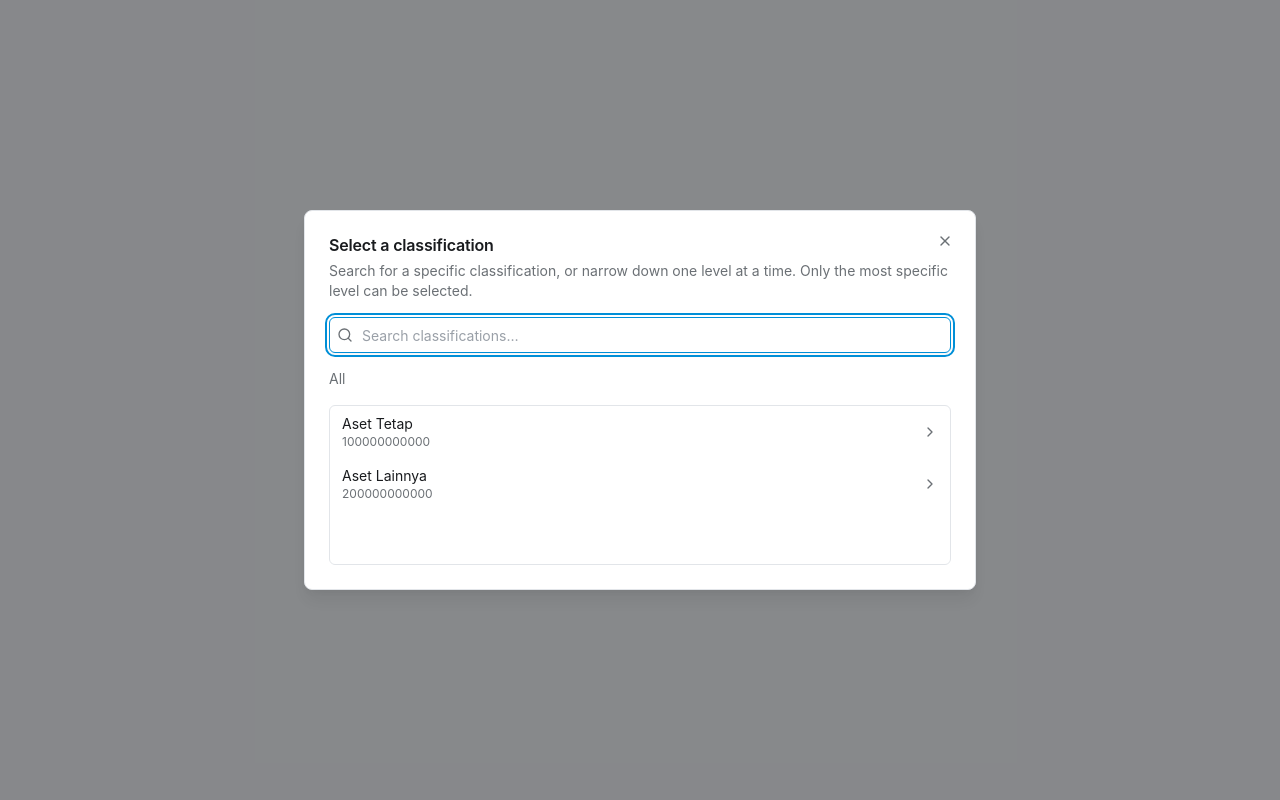
Test case: ClassificationPicker — leaf search (§4.5) › switches to leaf search once a term is typed
Check: the text "Aset Tetap" is shown, box [342,414,413,434]
Step 1. Type "aspal" into the field labelled "Search classifications…" → (640, 335), box [329,317,951,353]
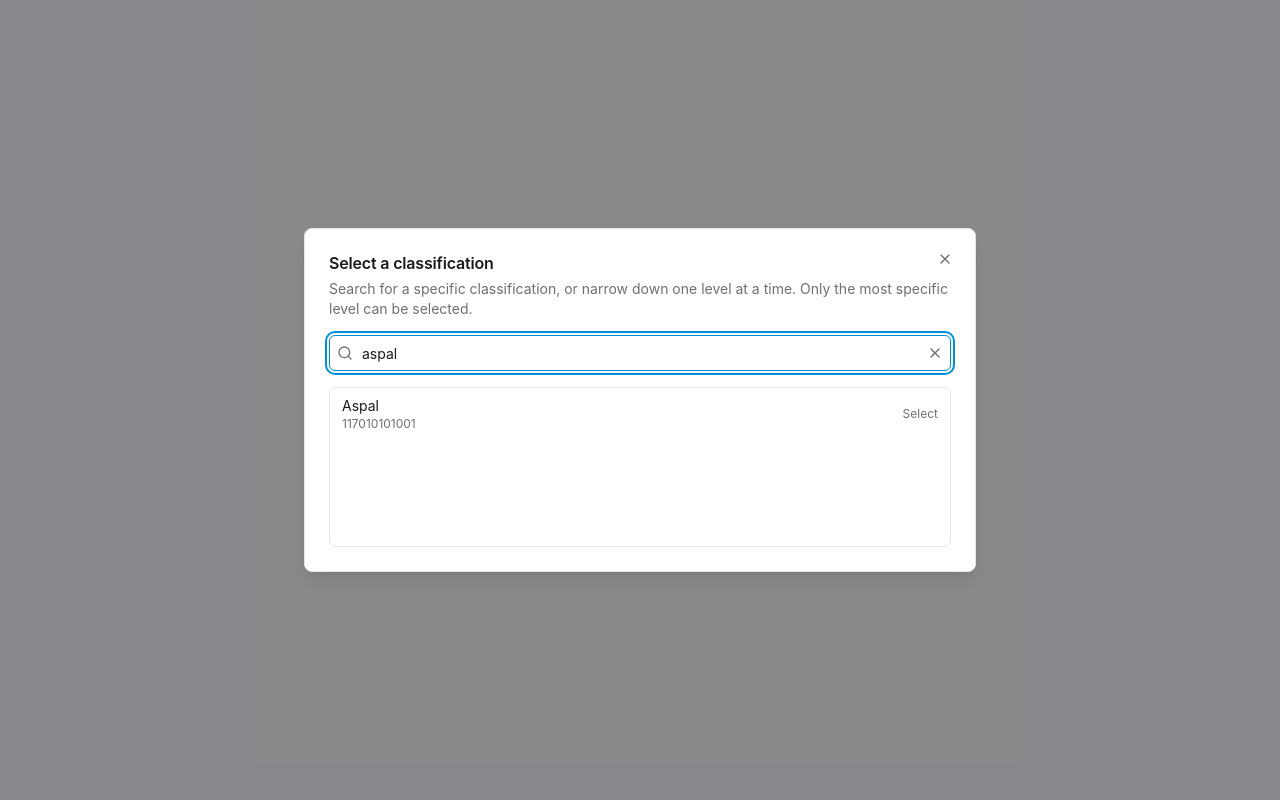
Check: the text "Aspal" is shown, box [342,396,379,416]
